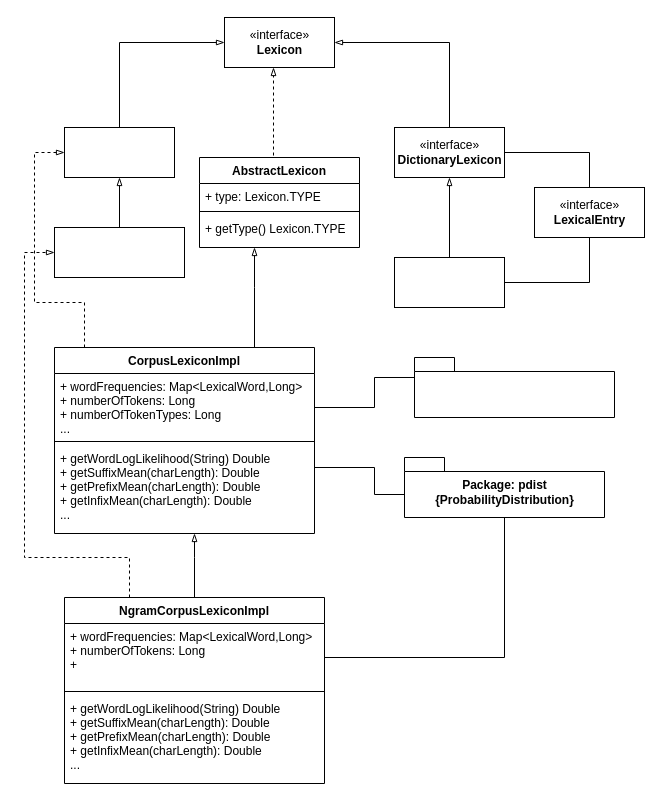
Image size: 662x804. Some labels were removed from this diagram. The centre of each missing label's shape, as x and y in pixels:
Package: utils {LexiconReader}: the point at 514,387
«interface» CorpusLexicon: the point at 119,152
«interface» NgramCorpusLexicon: the point at 119,252
«interface» ThesaurusLexicon: the point at 449,282
